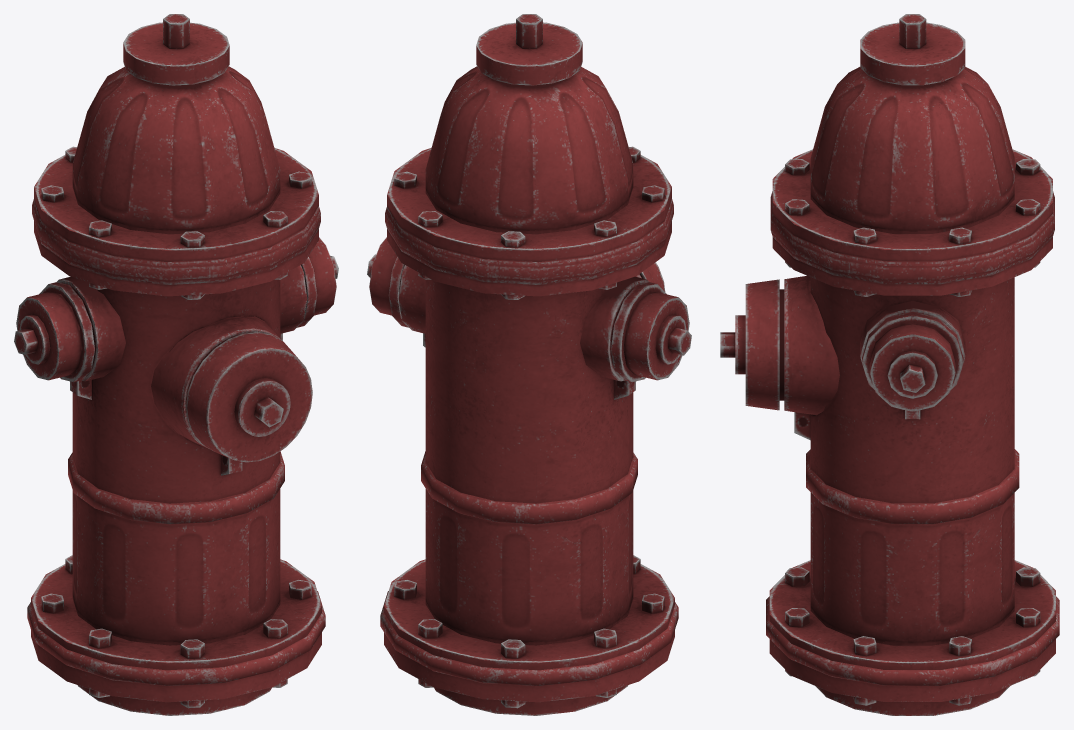
Rendered from urbroads_firehydrant.fbx.
3 views of the same model, side by side, from view 1: azimuth 30°, elevation 25°; view 2: azimuth 150°, elevation 25°; view 3: azimuth 270°, elevation 25° (orthographic).
Parts seen in each view (by area): view 1: UrbanRoad.FireHydrant; view 2: UrbanRoad.FireHydrant; view 3: UrbanRoad.FireHydrant.
Part boxes in pixels (x1,y1,x2,y2): UrbanRoad.FireHydrant: [14, 14, 338, 715]; UrbanRoad.FireHydrant: [367, 14, 691, 715]; UrbanRoad.FireHydrant: [720, 14, 1059, 715].
Bounding box in the file's own units: 44.93 × 89.78 × 42.19.
